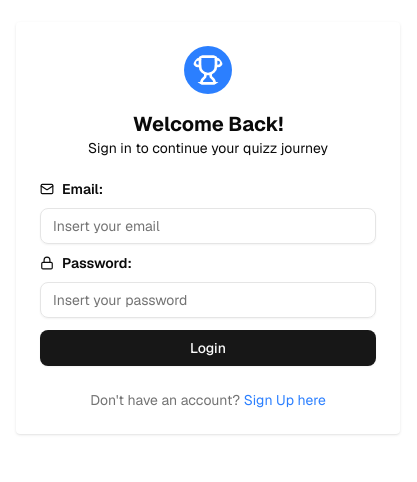
Test: LoginForm › shows error if missing email or password
Click the button "Login".
click(208, 348)  # box [40,330,376,366]
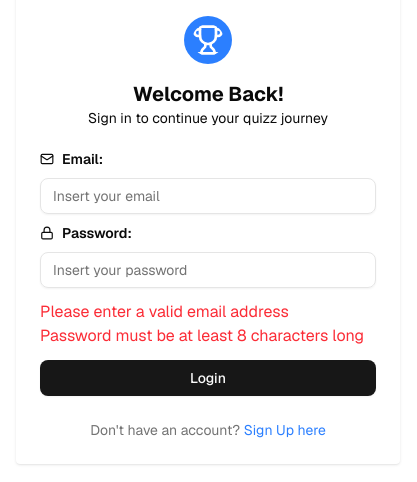
Expected: the list with test id "error-list" is shown, [40,300,376,348]
Expected: the list item "Please enter a valid email address" is shown, [40,301,289,322]
Expected: the list item "Password must be at least 8 characters long" is shown, [40,324,376,348]
